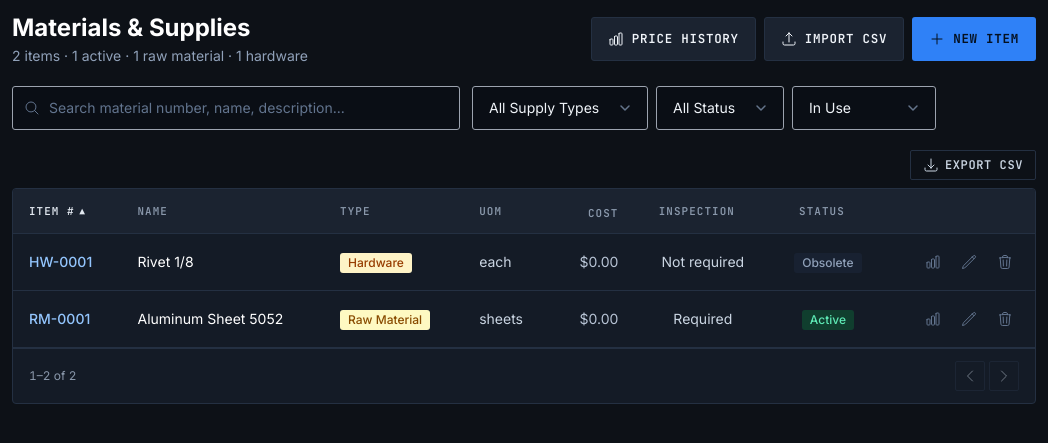
Materials — type filter reloads immediately, only search is debounced › refetches on a type-filter change with NO debounce delay (the regression)
Select "Hardware" in the dropdown named "Filter by type". click: point(560, 108)
box: [472, 86, 648, 130]
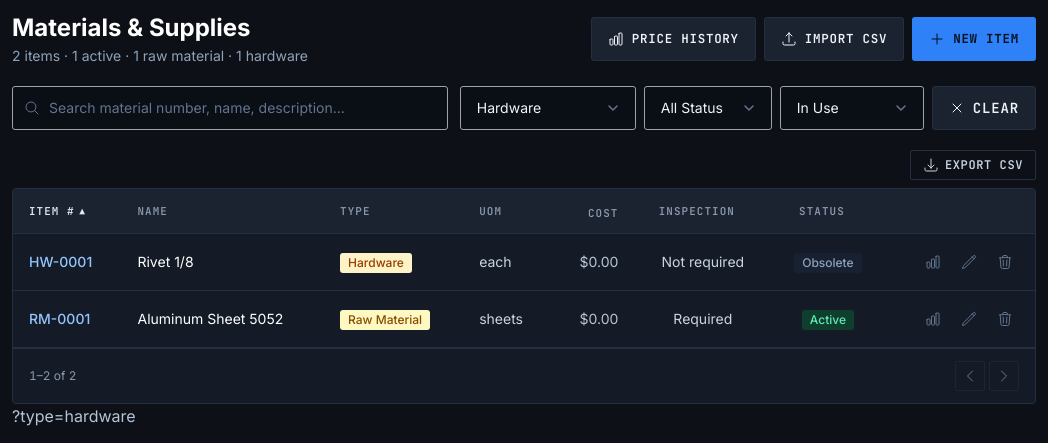
Result: the text with test id "location-search" reads "?type=hardware" at [12, 406, 136, 426]
